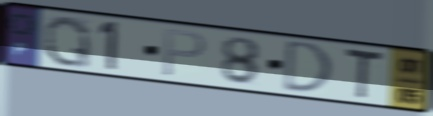1: (95, 19, 121, 73)
8: (218, 36, 264, 87)
D: (281, 38, 336, 95)
P: (160, 27, 209, 80)
Q: (42, 14, 93, 71)
T: (342, 45, 385, 103)
